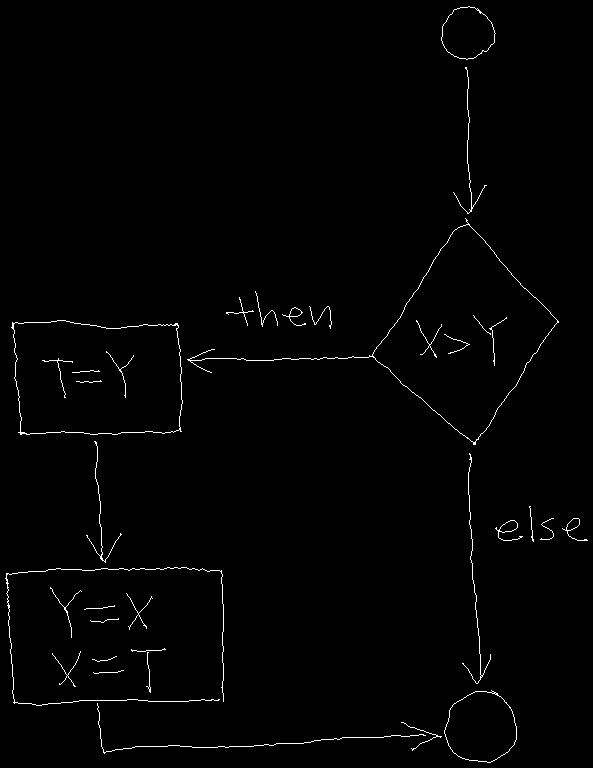arrow: (97, 703, 441, 753), (462, 453, 490, 683), (453, 67, 486, 213), (86, 441, 121, 562), (187, 349, 371, 372)
connection: (444, 690, 516, 762), (441, 6, 495, 59)
decision: (371, 218, 558, 444)
process: (5, 567, 223, 705), (11, 320, 182, 434)
text: (50, 587, 165, 692), (416, 315, 506, 365), (42, 351, 133, 397), (226, 291, 331, 328), (495, 506, 587, 541)
